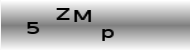5: (26, 21, 39, 34)
M: (73, 9, 92, 23)
Z: (54, 7, 70, 20)
l: (87, 9, 91, 23)
p: (101, 28, 114, 41)
